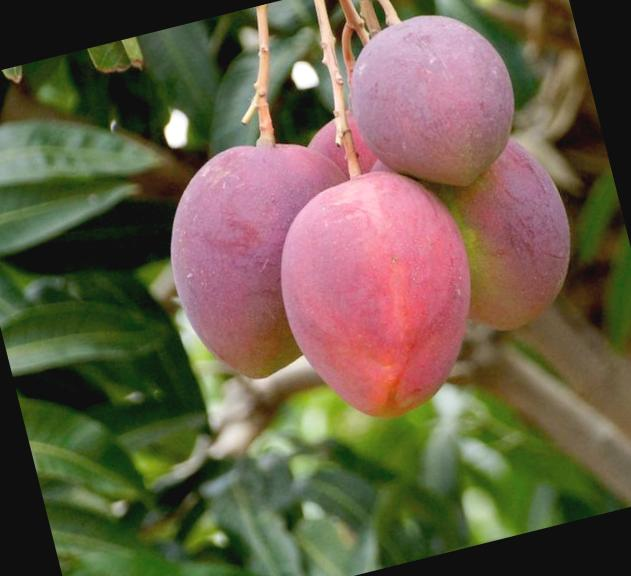Mango Unripe: (258, 119, 507, 438)
